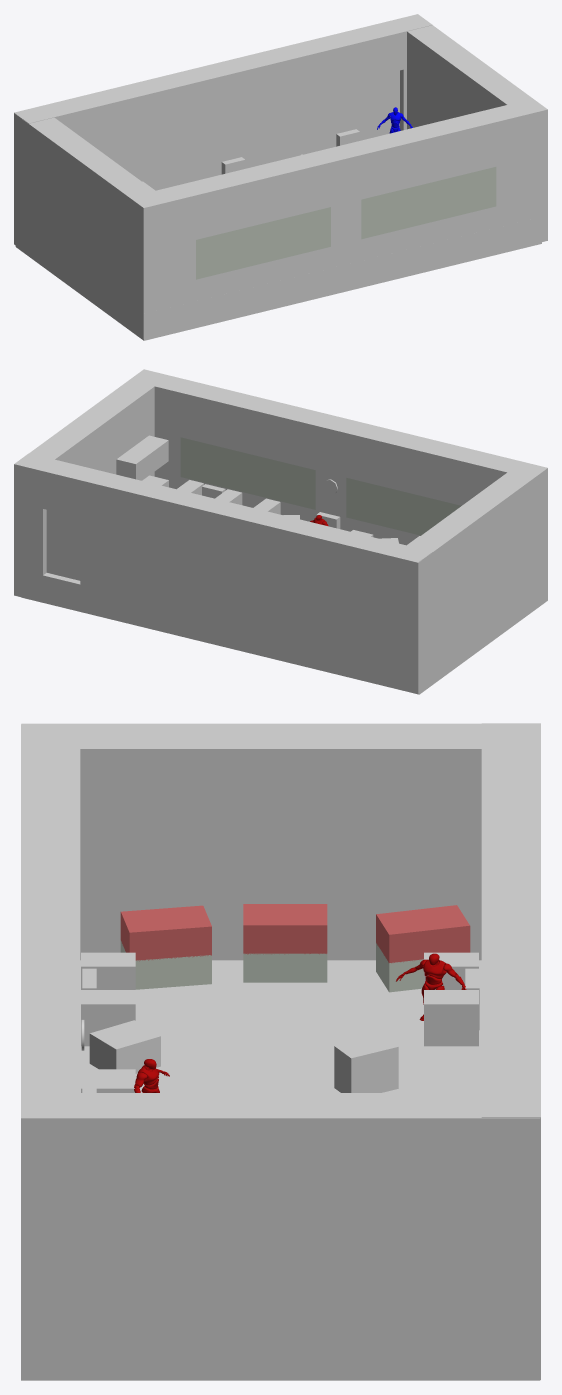
File: WhiteBoxing_Nursery.fbx
3 renders of one model, top to bottom at view 1: azimuth 30°, elevation 25°; view 2: azimuth 150°, elevation 25°; view 3: azimuth 270°, elevation 25°, orthographic. The views are drawn at different scales.
Parts seen in each view (by area): view 1: Side Wall Right007, Front Wall006, Side Wall Right008, Floor004, Side Wall Right006, Object001, Object002, Door006, Door Way006; view 2: Front Wall006, Side Wall Right007, Side Wall Right008, Side Wall Right006, Object001, Object002, Door006, Nursery Cabinet001, Door Way006, Floor004; view 3: Side Wall Right006, Side Wall Right008, Floor004, Front Wall006, Side Wall Right007, Incubator005, Incubator007, Incubator003, Crib011, Crib012, Crib005, Incubator (+7 smaller).
Boxes of the visible parts, x1,y1,x2,y2 form: Side Wall Right007: [130, 105, 547, 313]; Front Wall006: [14, 14, 432, 190]; Side Wall Right008: [14, 113, 161, 338]; Floor004: [15, 217, 541, 340]; Side Wall Right006: [407, 25, 547, 129]; Object001: [361, 167, 496, 239]; Object002: [196, 207, 330, 279]; Door006: [366, 70, 399, 139]; Door Way006: [364, 66, 406, 139]; Front Wall006: [14, 453, 432, 693]; Side Wall Right007: [130, 369, 546, 545]; Side Wall Right008: [395, 468, 547, 693]; Side Wall Right006: [22, 369, 168, 601]; Object001: [180, 437, 315, 509]; Object002: [346, 478, 461, 535]; Door006: [46, 510, 80, 580]; Nursery Cabinet001: [116, 435, 168, 480]; Door Way006: [40, 505, 82, 584]; Floor004: [21, 597, 547, 694]; Side Wall Right006: [21, 1093, 540, 1380]; Side Wall Right008: [21, 723, 481, 960]; Floor004: [80, 960, 481, 1092]; Front Wall006: [481, 723, 540, 1379]; Side Wall Right007: [21, 724, 80, 1380]; Incubator005: [120, 905, 211, 961]; Incubator007: [376, 905, 470, 963]; Incubator003: [243, 904, 327, 954]; Crib011: [334, 1034, 398, 1092]; Crib012: [424, 990, 478, 1046]; Crib005: [89, 1020, 160, 1073]; Incubator: [243, 953, 327, 982].
Bounding box in the file's own units: 1563 × 492 × 871.
